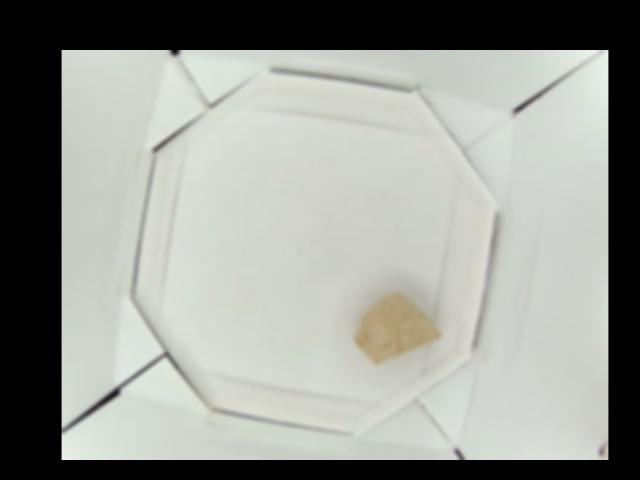China: (354, 292, 443, 362)
